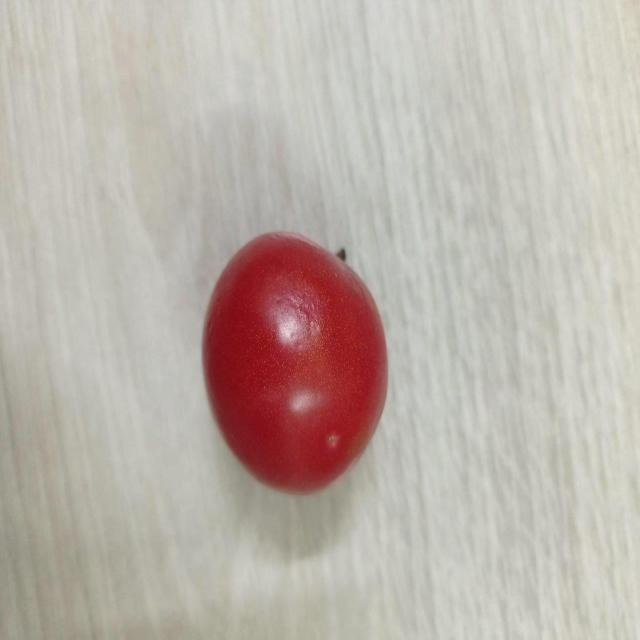Tomato: (200, 222, 391, 495)
